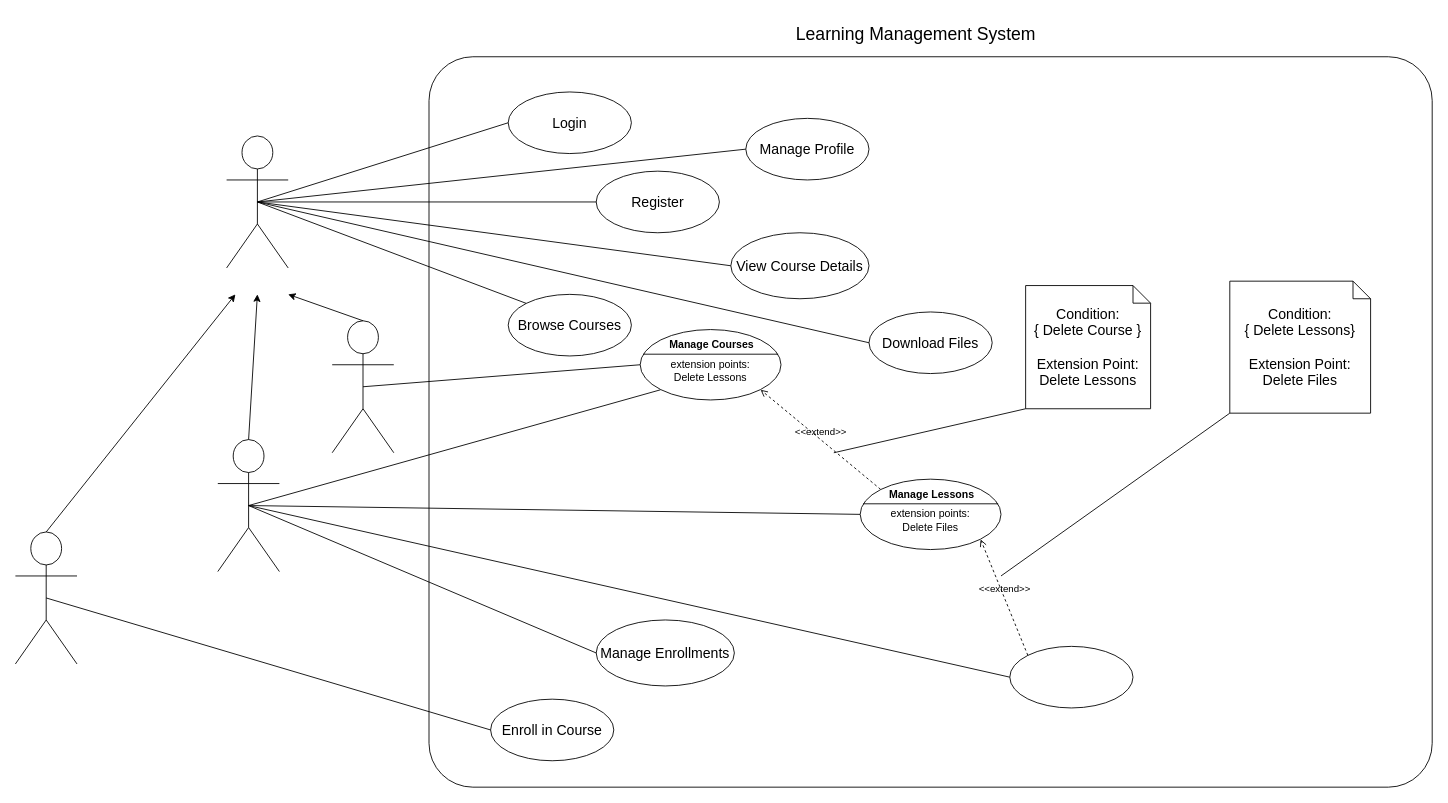
Image size: 1448x803. Some labels were removed from this diagram. The centre of each missing label's shape, as x and y in pixels:
"Admin" goes at pixel 362 386.
"Manage Files" goes at pixel 1071 676.
"Student" goes at pixel 46 597.
"Teacher" goes at pixel 248 505.
"User" goes at pixel 257 201.
